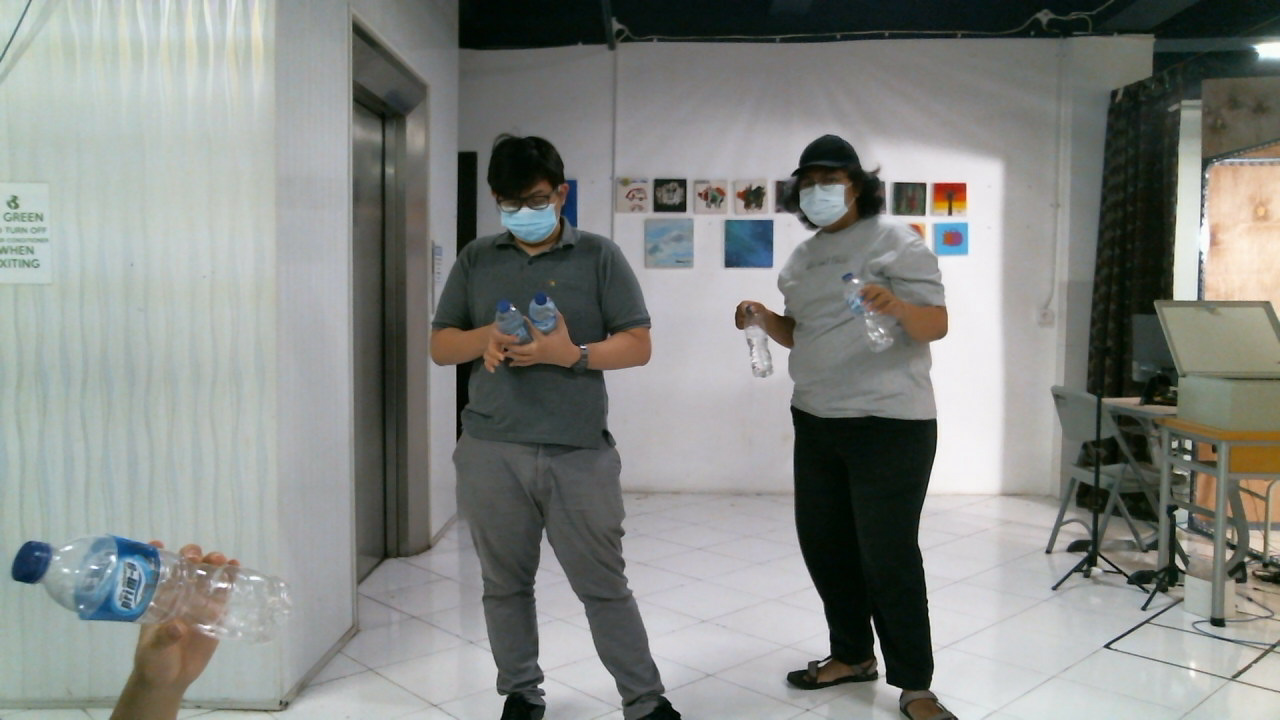Bottle: (15, 532, 291, 641)
